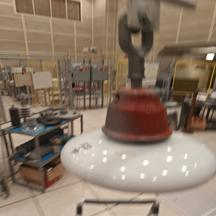insulator: (55, 80, 216, 199)
